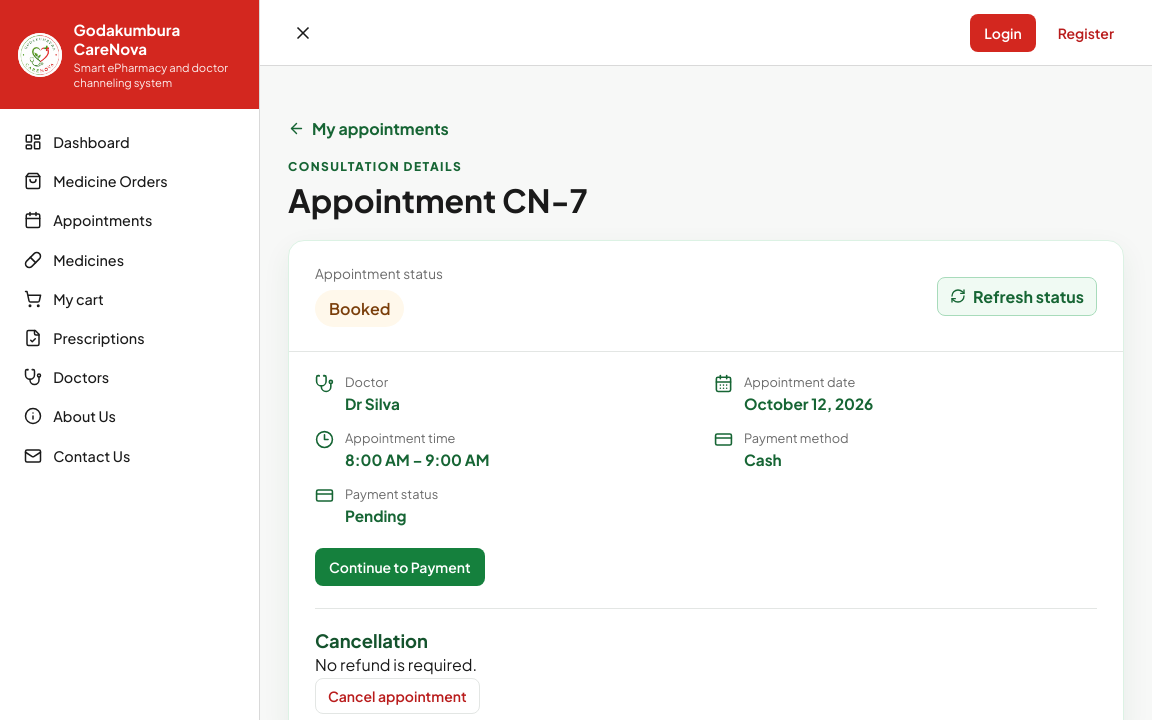
Test: keeps Cancelled visible and hides new payment if appointment refresh fails after cancellation
The width and height of the screenshot is (1152, 720).
Expected: the link "Continue to Payment" is shown, [315, 548, 485, 586]
Click the button "Cancel appointment" at {"x": 397, "y": 696}, box [315, 678, 480, 714]
(page scrolled)
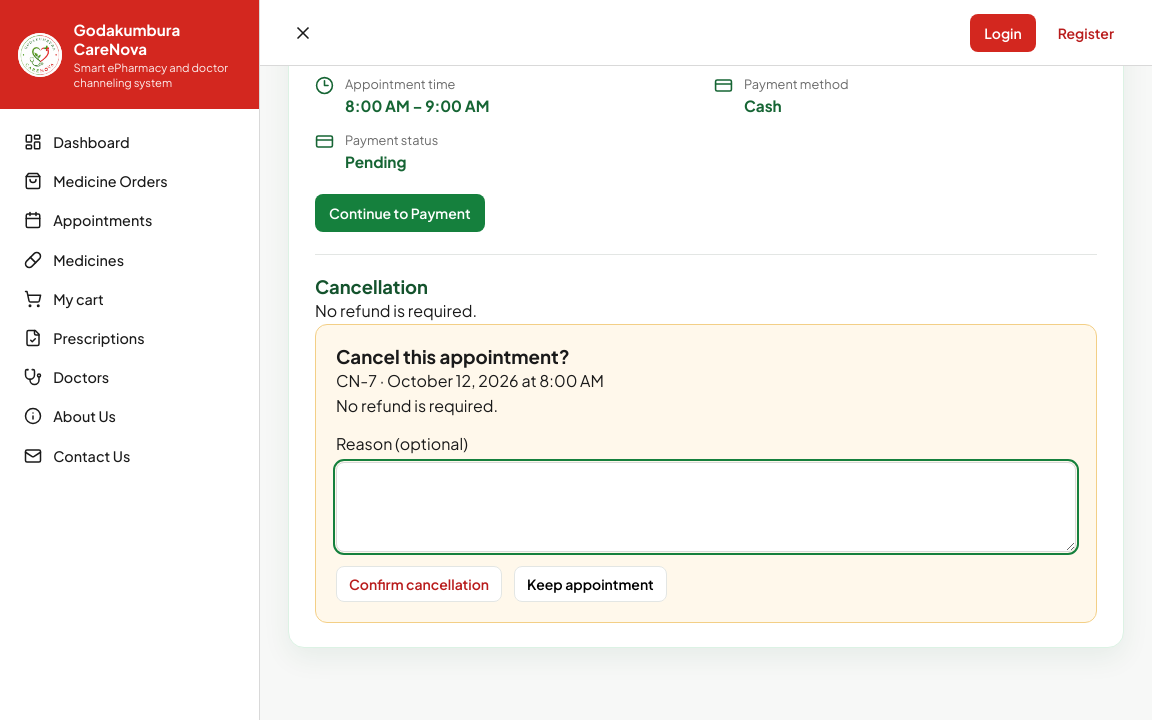
Click the button "Confirm cancellation" at {"x": 419, "y": 584}, box [336, 566, 502, 602]
(page scrolled)
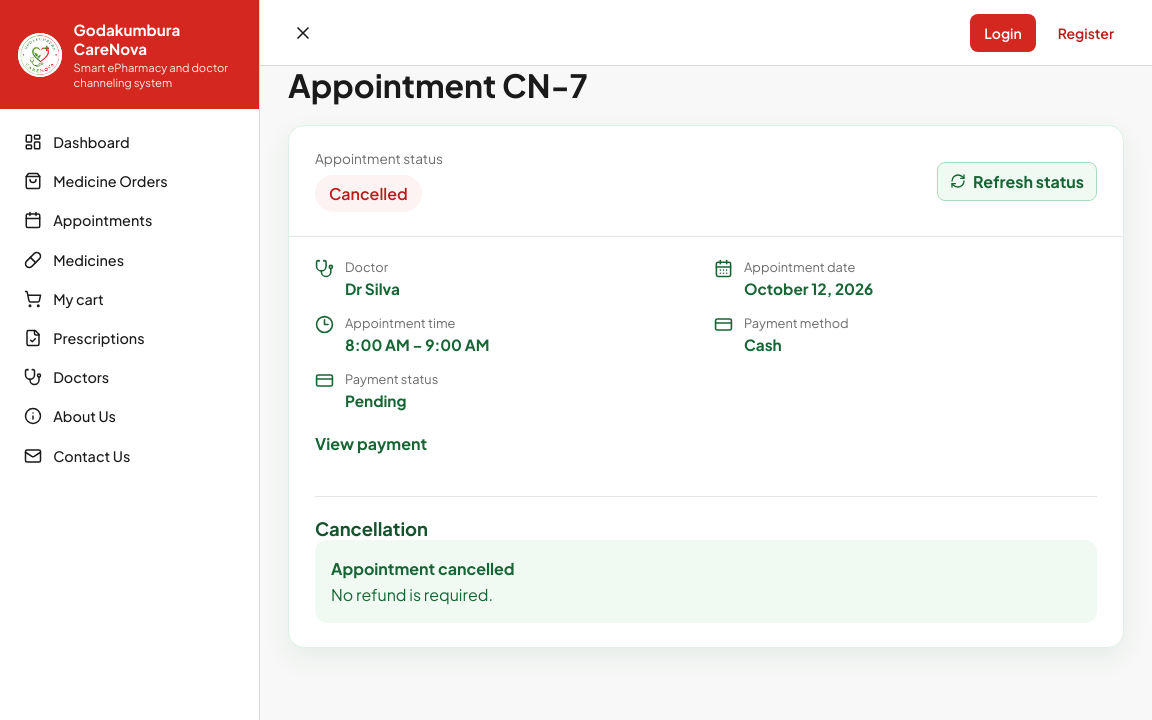
Expected: the message reads "Appointment cancelled", [331, 558, 515, 579]
Expected: the text "Cancelled" is shown, [315, 175, 422, 212]
Expected: the link "Continue to Payment" is gone
